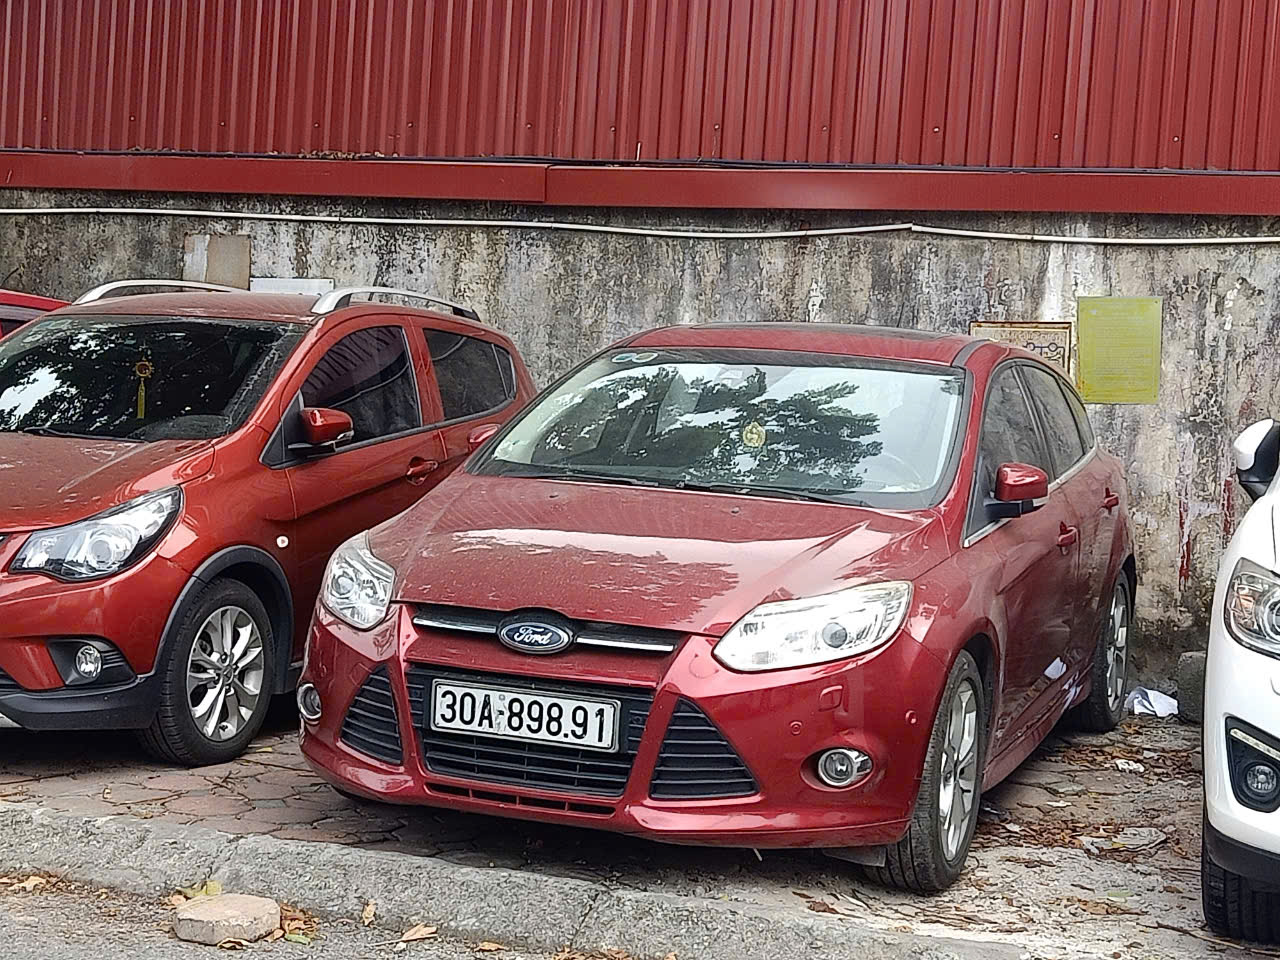bien_so: (431, 680, 619, 753)
